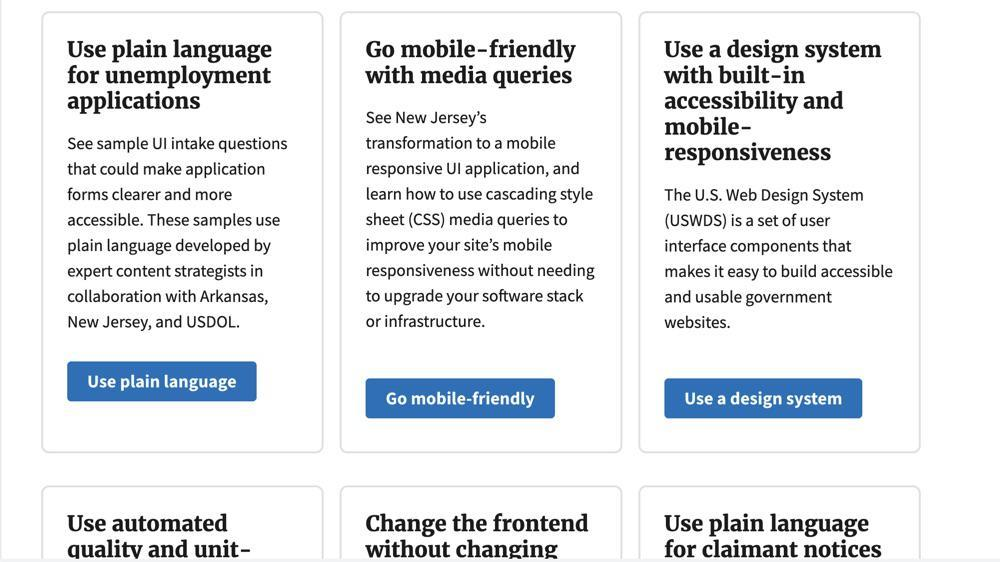button: (68, 361, 258, 404), (366, 378, 556, 421), (664, 380, 865, 420)
